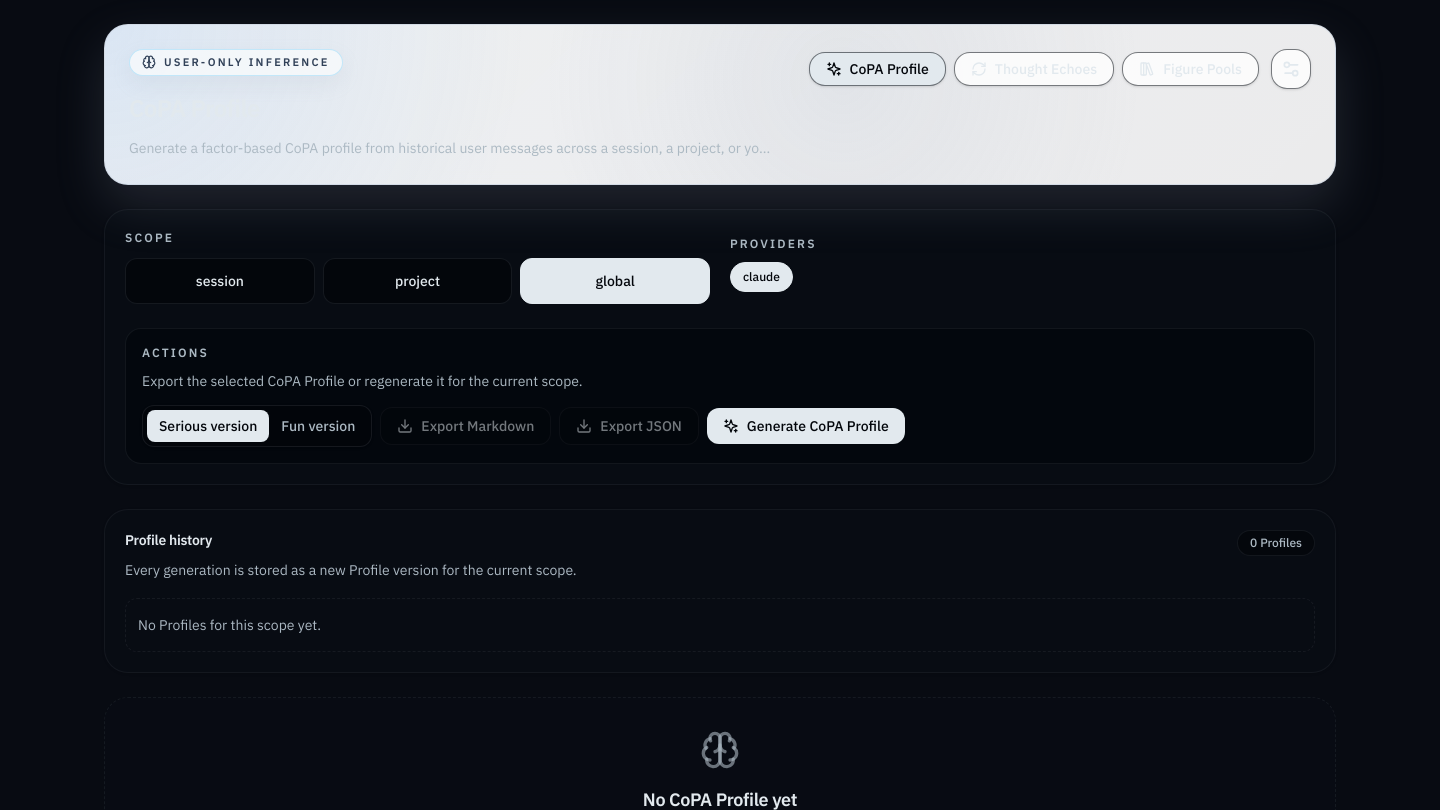
Test case: CopaProfilePage resonance layout › shows the import size hint and blocks zip files larger than 100 MB
Click the button "Figure Pools".
click(1191, 69)  # box [1122,52,1259,86]
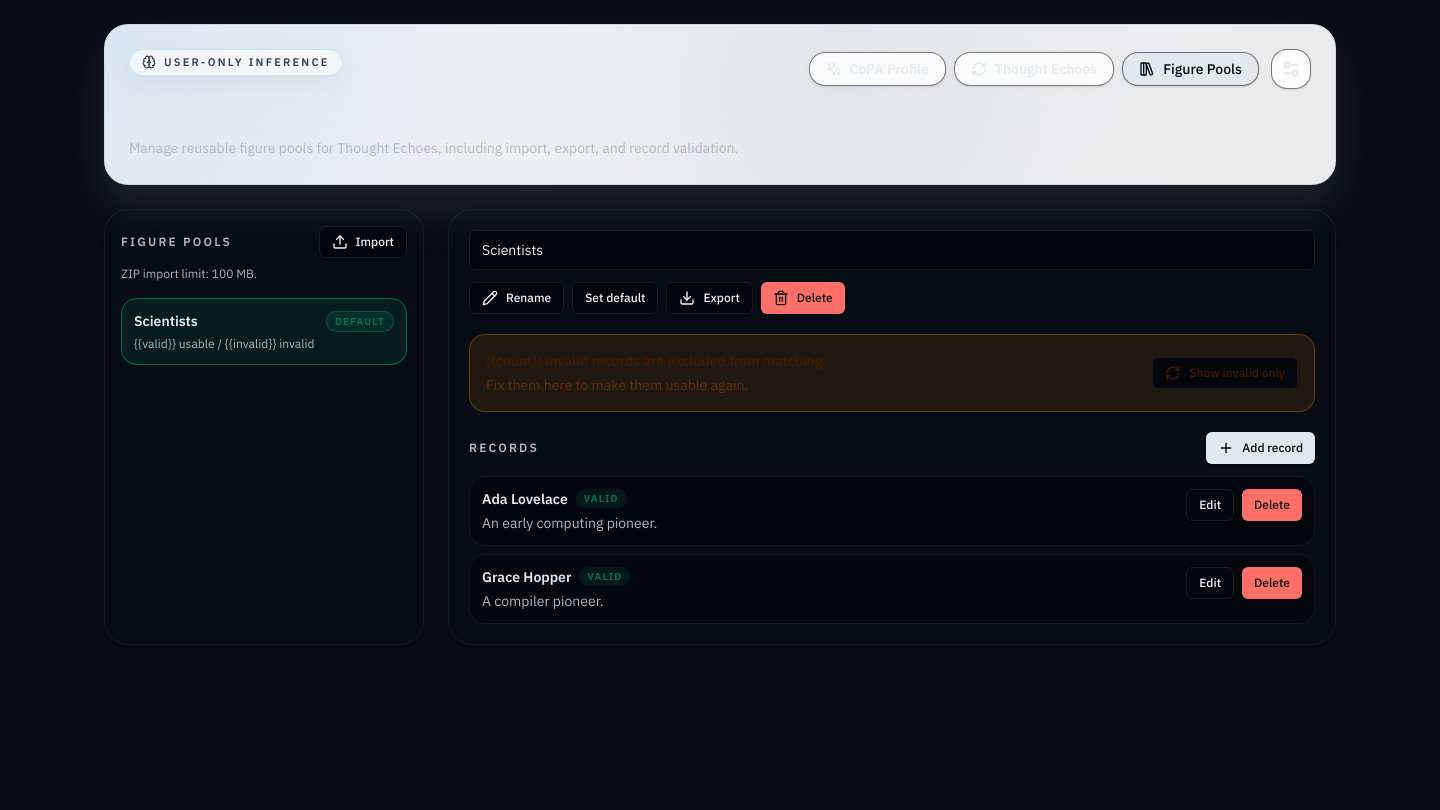
Expected: the text "ZIP import limit: 100 MB." is shown, [121,266,257,280]
Click the button "Import".
click(363, 242)  # box [318,226,407,258]
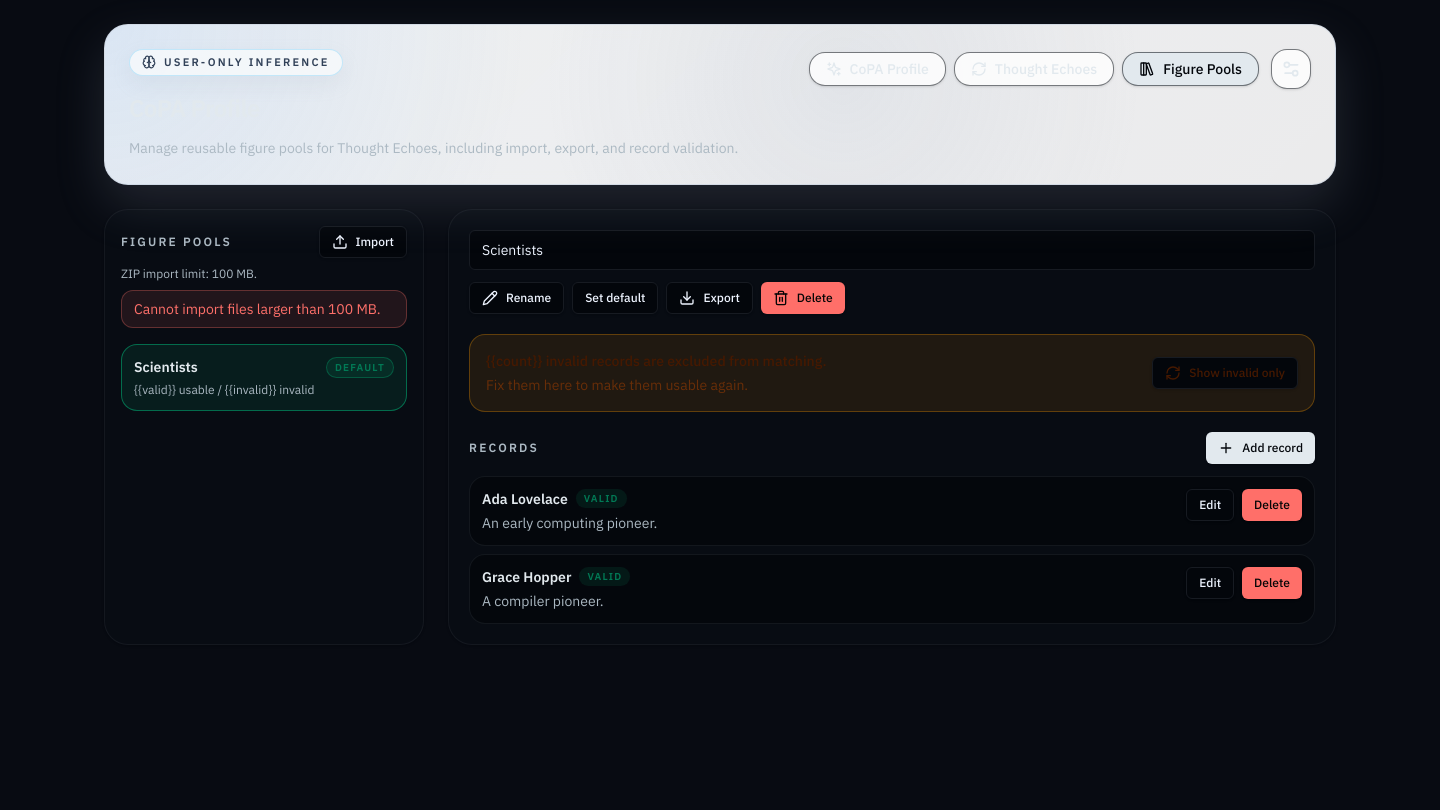
Expected: the text "Cannot import files larger than 100 MB." is shown, [121,290,407,328]
